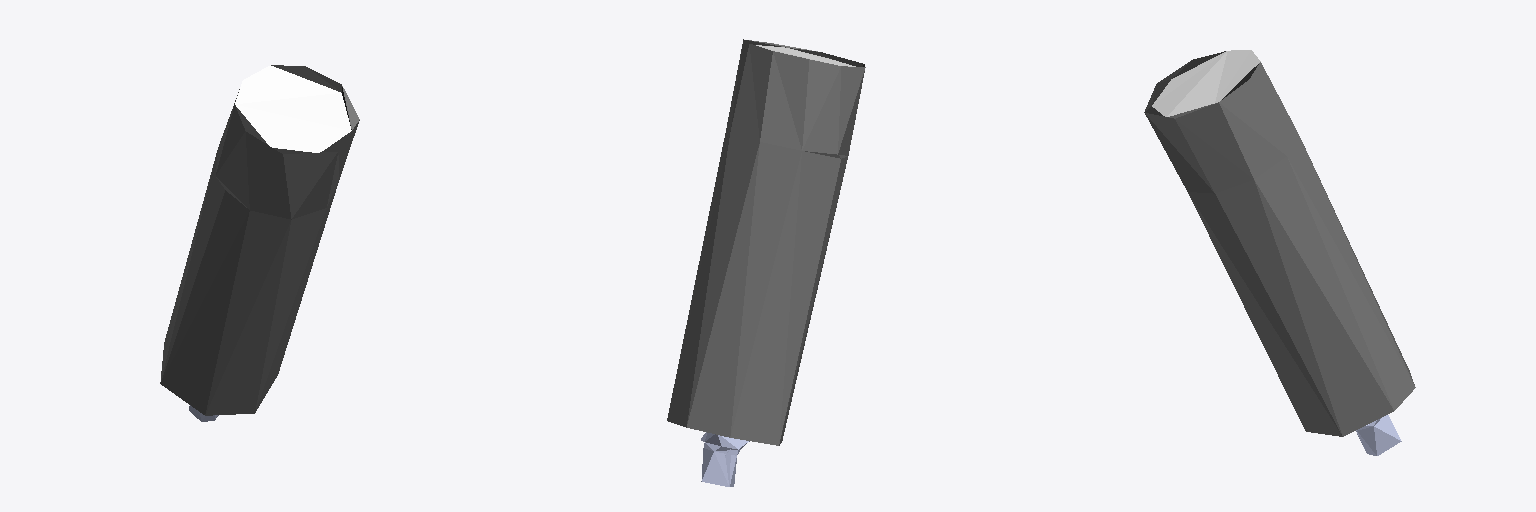
File: bluevolta_camera.obj
3 renders of one model, left to right at view 1: azimuth 30°, elevation 25°; view 2: azimuth 150°, elevation 25°; view 3: azimuth 270°, elevation 25°, orthographic.
Visible parts, largest first — view 1: Blue_Volta-eROV.simplified.V2_OBJ2_11719-9033; view 2: Blue_Volta-eROV.simplified.V2_OBJ2_11719-9033; view 3: Blue_Volta-eROV.simplified.V2_OBJ2_11719-9033.
Boxes of the visible parts, x1,y1,x2,y2 form: Blue_Volta-eROV.simplified.V2_OBJ2_11719-9033: [160, 65, 359, 421]; Blue_Volta-eROV.simplified.V2_OBJ2_11719-9033: [667, 39, 865, 486]; Blue_Volta-eROV.simplified.V2_OBJ2_11719-9033: [1144, 50, 1415, 455].
Bounding box in the file's own units: 0.0782 × 0.2664 × 0.1665.